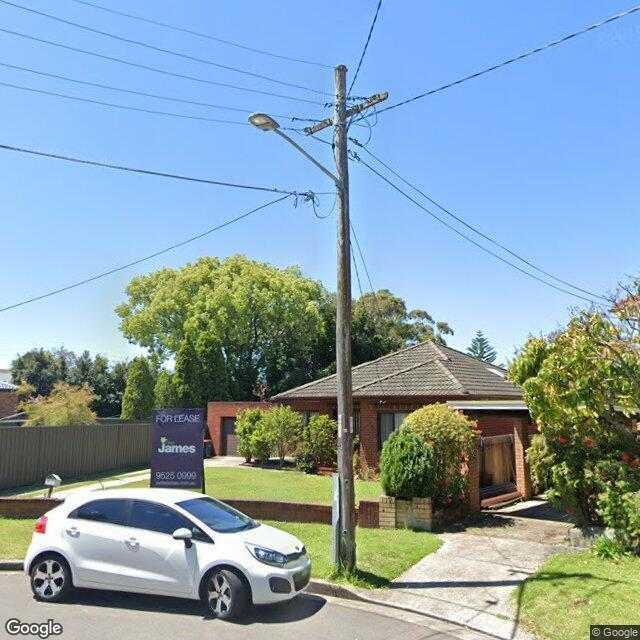crossarm: (303, 90, 389, 136)
streetlight: (248, 112, 344, 190)
timber-pole: (332, 64, 358, 576)
